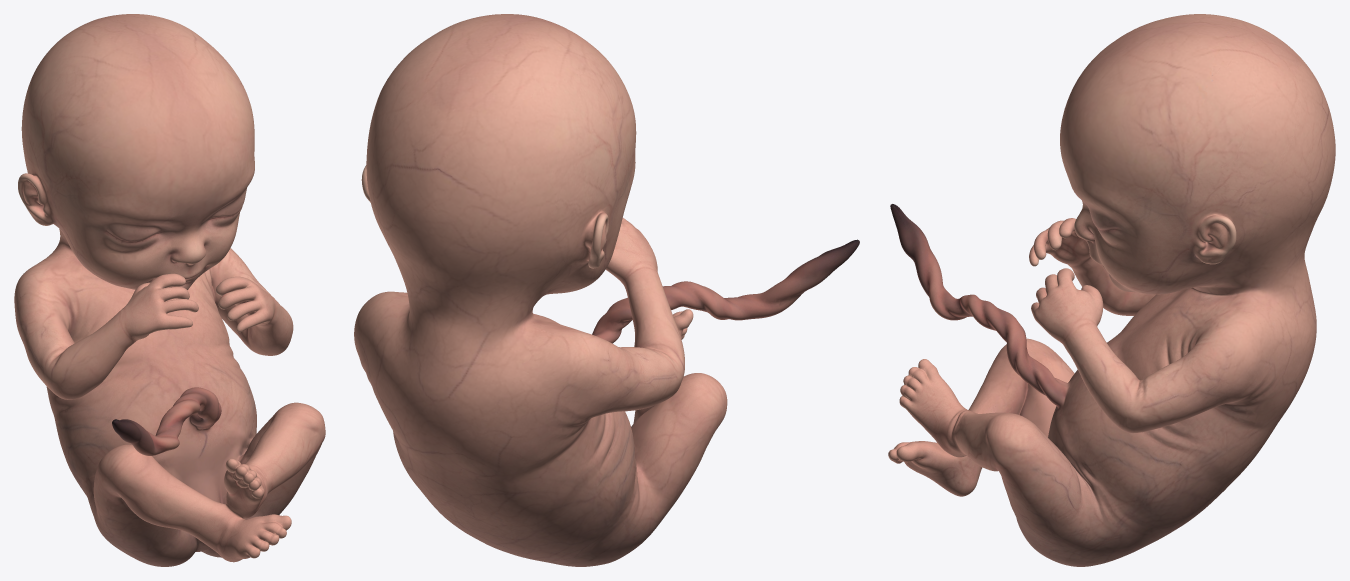
Rendered from semaine-14.glb.
3 renders of one model, left to right at view 1: azimuth 30°, elevation 25°; view 2: azimuth 150°, elevation 25°; view 3: azimuth 270°, elevation 25°, orthographic. The views are drawn at different scales.
Size of the model in its own units: 1.18 by 1.9 by 1.48.
Materials: 1 (1 with a texture image).
